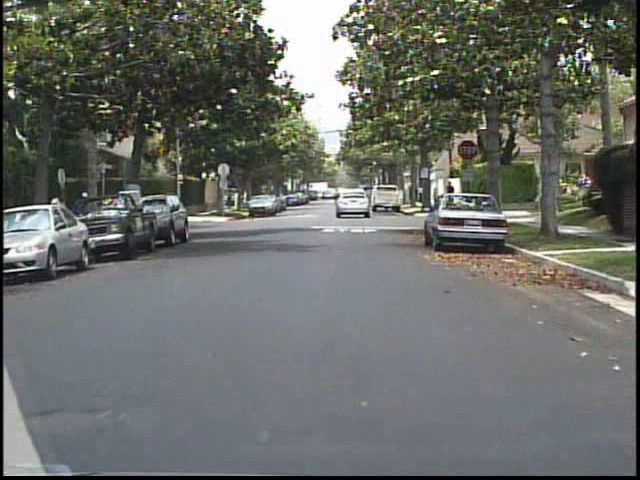person: (48, 185, 72, 255), (441, 177, 459, 213), (417, 183, 424, 203)
